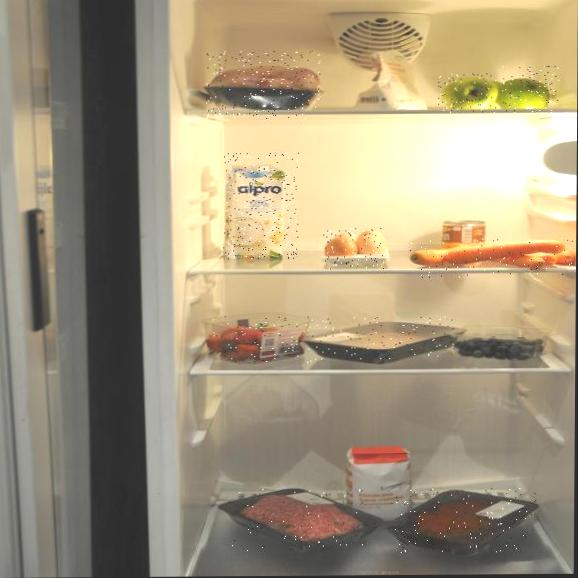apple: (501, 65, 559, 113), (437, 73, 498, 114)
carrots: (410, 238, 576, 279)
chicken: (206, 51, 321, 119)
eggs: (323, 228, 384, 271)
meat: (391, 488, 536, 553), (228, 488, 369, 551), (314, 317, 455, 360)
milk: (223, 153, 299, 259)
tomatoes: (210, 316, 315, 363)
